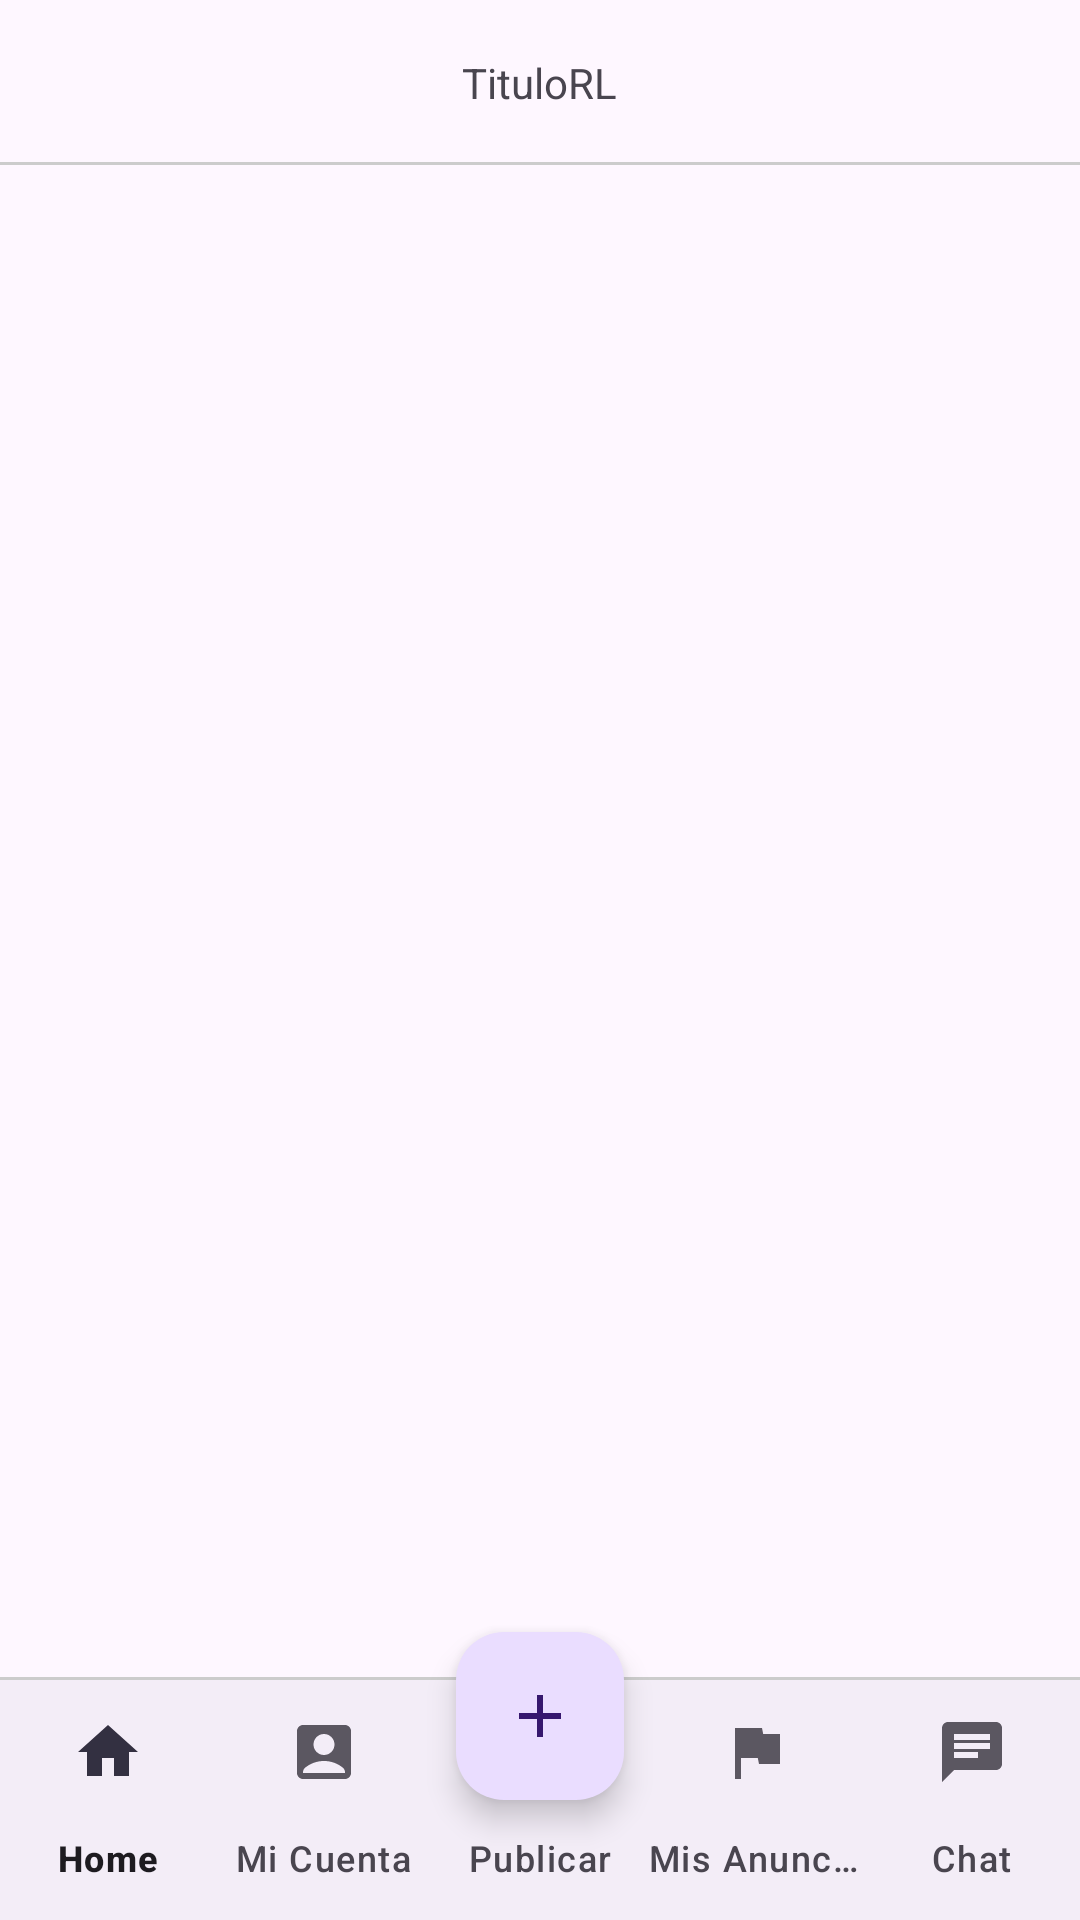

Screen size 1080w x 1920h. Icon name, then its center in pixels as [x,y]:
agregar: [540,1716]
